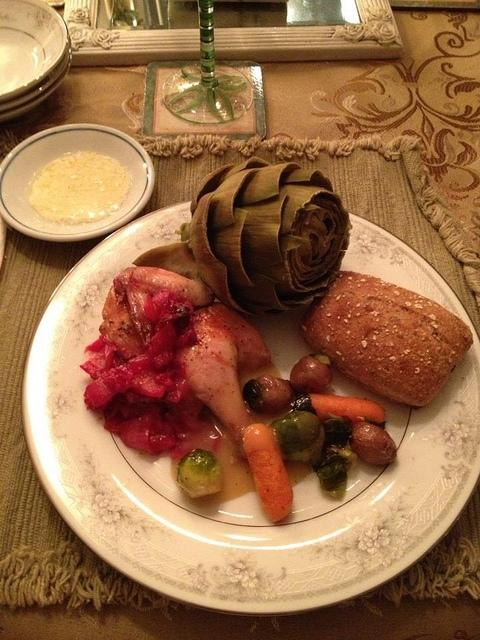brussels sprouts: (270, 411, 326, 464), (176, 448, 222, 498), (312, 458, 347, 500)
carrot: (244, 423, 294, 524), (310, 394, 384, 424)
potato: (348, 422, 396, 465), (290, 354, 332, 395), (257, 375, 294, 413)
